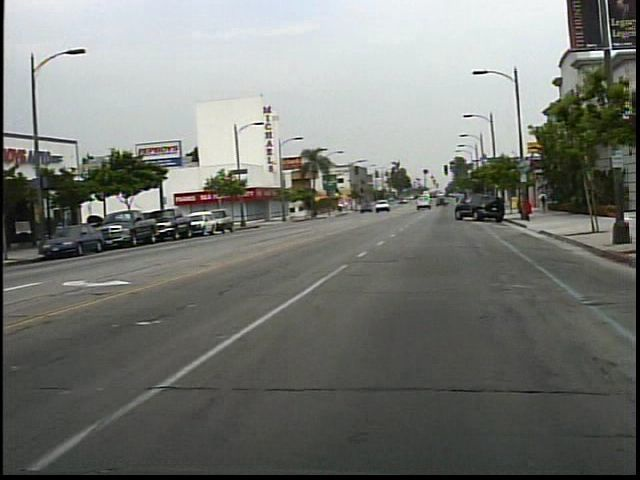person: (542, 189, 555, 217)
